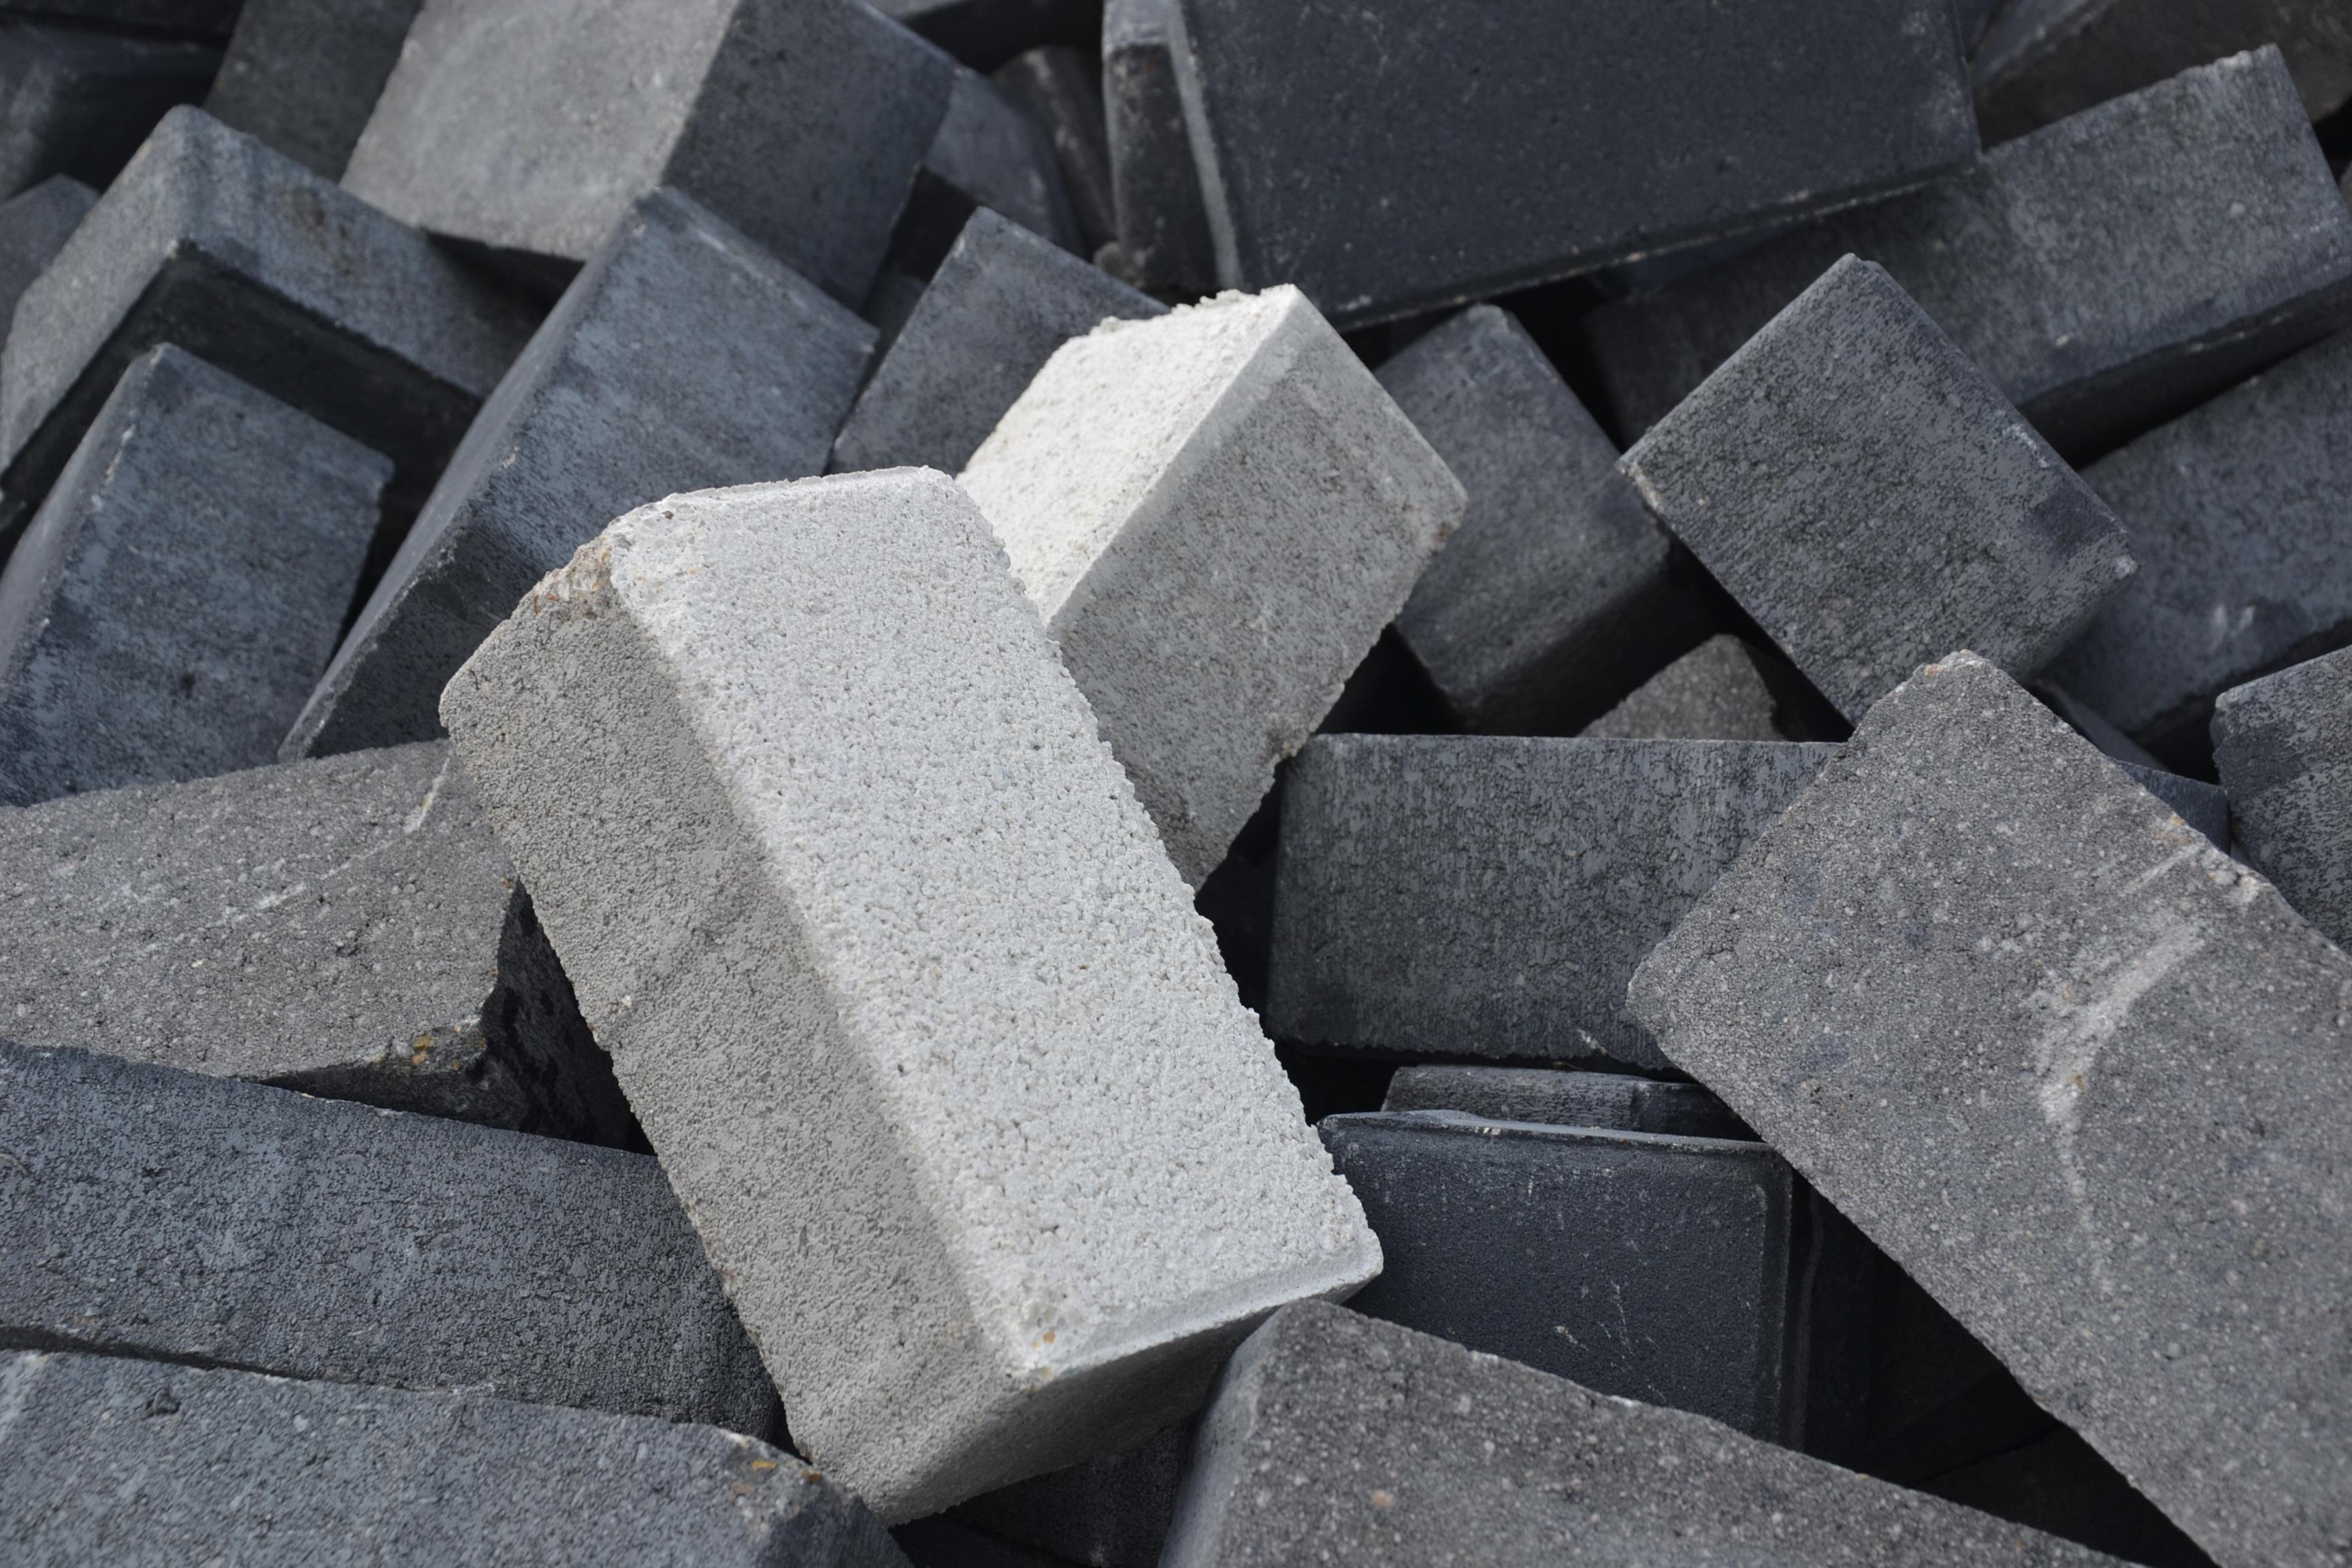Bricks: (436, 467, 1384, 1531), (1624, 655, 2352, 1568), (278, 0, 959, 765), (947, 287, 1475, 891), (1615, 51, 2352, 418), (1615, 256, 2153, 728), (1190, 1311, 2156, 1568), (0, 103, 548, 548), (331, 2, 977, 287), (1285, 738, 1839, 1066), (0, 353, 401, 805), (1334, 1118, 1783, 1423), (1384, 304, 1664, 721), (2222, 653, 2352, 927)
